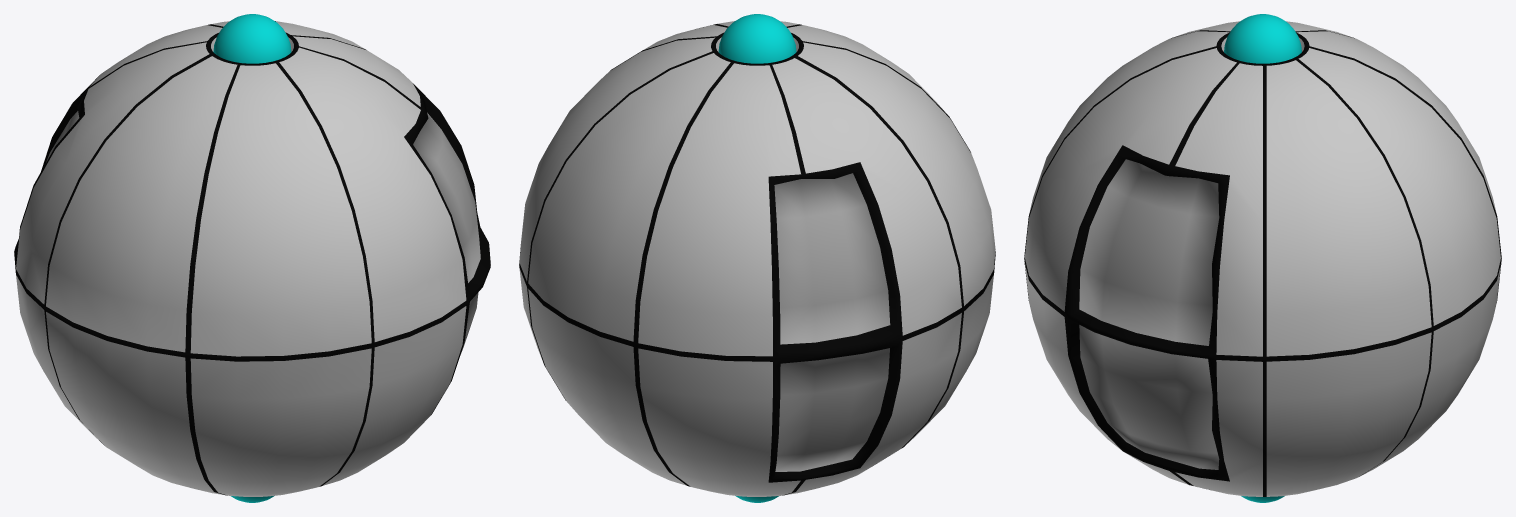
Rendered from bomb.fbx.
The picture shows the model from 3 angles, left to right: view 1: azimuth 30°, elevation 25°; view 2: azimuth 150°, elevation 25°; view 3: azimuth 270°, elevation 25°; orthographic projection.
Visible parts, largest first — view 1: Sphere; view 2: Sphere; view 3: Sphere.
Part boxes in pixels (x1,y1,x2,y2): Sphere: (14, 14, 490, 502); Sphere: (519, 14, 995, 502); Sphere: (1024, 14, 1501, 502).
Bounding box in the file's own units: 892 × 993 × 892.
